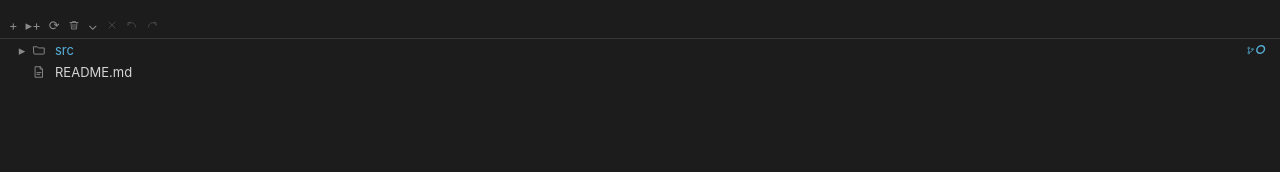
Scenario: Explorer › marks nested-repo git decorations with a distinct scope class
Expected: the icon with class "git-repo-marker" is shown, [1246,46,1255,54]
Expected: the element with class "git-badge" reads "○", [1255,42,1266,57]
# Files inside the nested repo get a lowercase badge letter.
Click the list item "src" at (22, 50), box [8,39,1242,61]
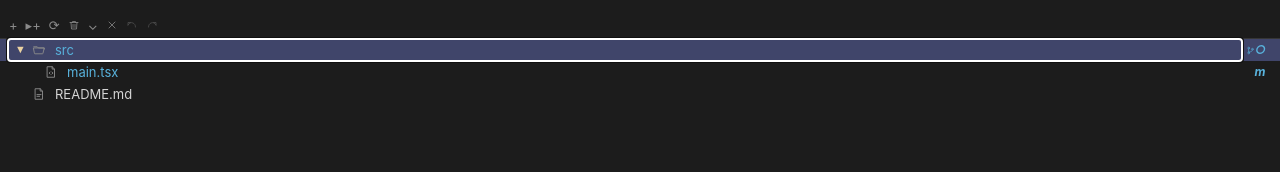
Now the text with class "git-badge" reads "m", box [1254,64,1266,79]
